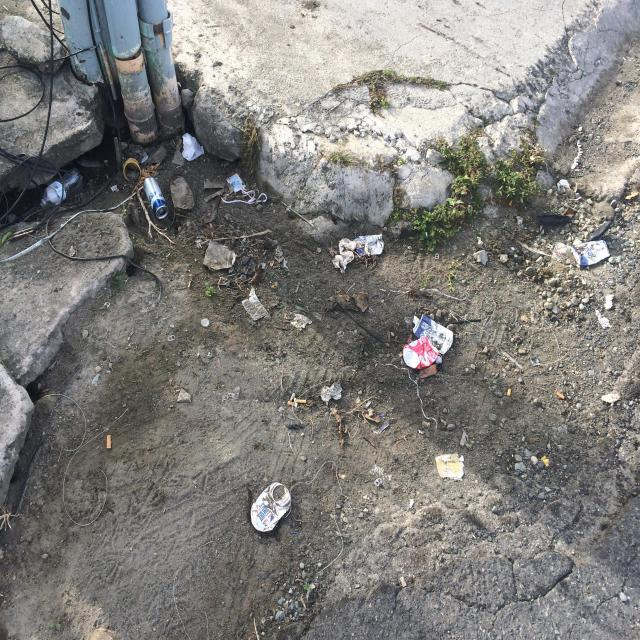litter: (143, 178, 441, 531)
